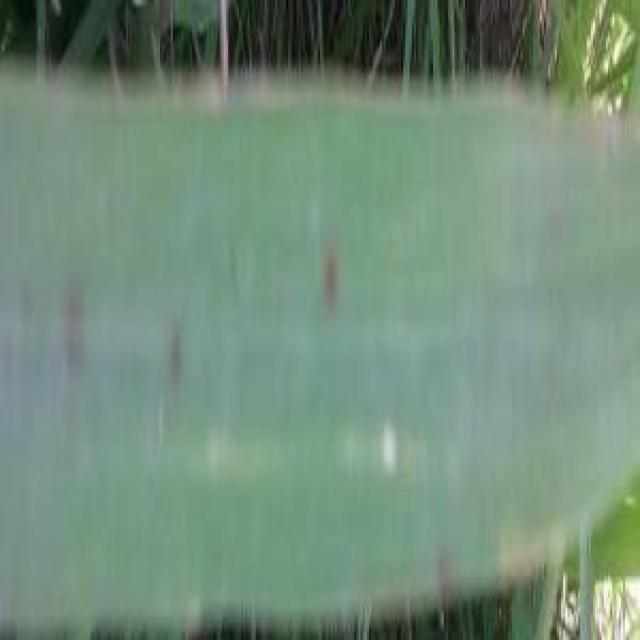Brown_Spot: (57, 287, 92, 375), (317, 235, 350, 320), (156, 320, 192, 381)
